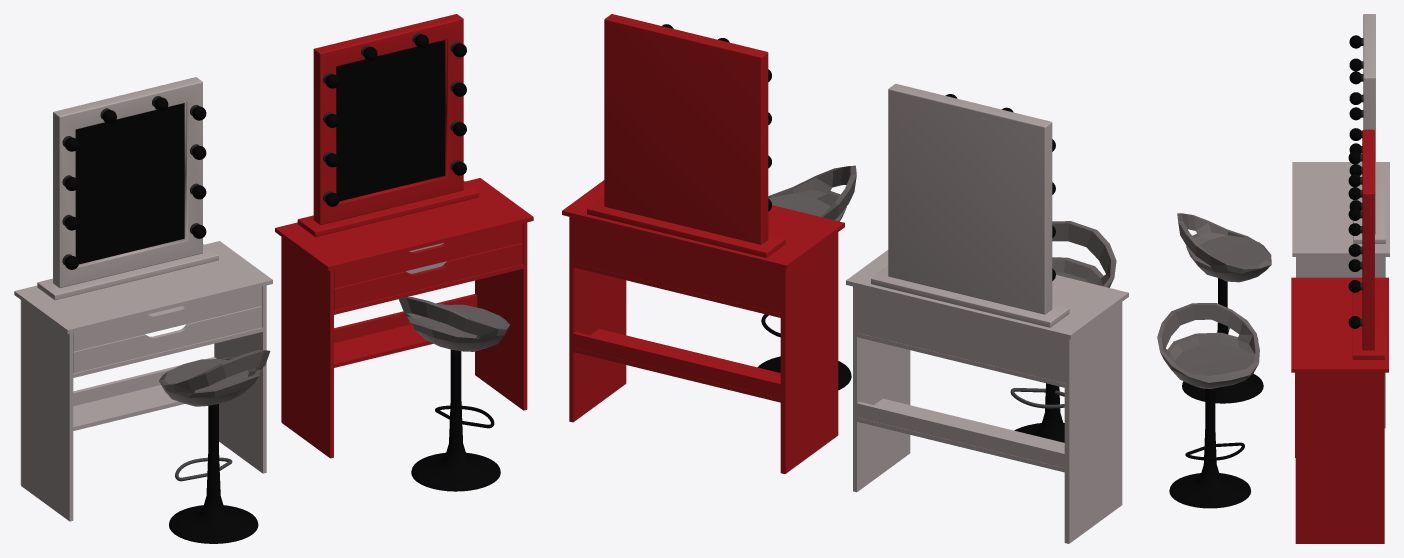
The model's file is uploads_files_3370593_111.FBX.
3 views of the same model, side by side, from view 1: azimuth 30°, elevation 25°; view 2: azimuth 150°, elevation 25°; view 3: azimuth 270°, elevation 25° (orthographic). The views are drawn at different scales.
Visible parts, largest first — view 1: Layer:KM_WORK, Layer:KM_WORK001, Mirror Pink, Mirror Pink001, Box002, Box004, Cylinder004, Cylinder005, seat001, seat, Box001, Box003; view 2: Layer:KM_WORK, Layer:KM_WORK001, Box002, Box004, seat, seat001, Box003, Box001, Cylinder005; view 3: Layer:KM_WORK, Layer:KM_WORK001, seat, seat001, Cylinder004, Box002, Cylinder005, Box004, Box001, Box003, Line001.
Boxes of the visible parts, bbox=[...] form: Layer:KM_WORK: bbox=[275, 178, 533, 458]; Layer:KM_WORK001: bbox=[14, 241, 272, 521]; Mirror Pink: bbox=[336, 40, 445, 201]; Mirror Pink001: bbox=[75, 103, 184, 264]; Box002: bbox=[313, 14, 463, 224]; Box004: bbox=[53, 77, 202, 287]; Cylinder004: bbox=[411, 349, 500, 491]; Cylinder005: bbox=[169, 404, 258, 543]; seat001: bbox=[159, 350, 270, 406]; seat: bbox=[398, 296, 509, 351]; Box001: bbox=[297, 181, 479, 237]; Box003: bbox=[37, 244, 218, 300]; Layer:KM_WORK: bbox=[562, 180, 844, 473]; Layer:KM_WORK001: bbox=[846, 250, 1128, 543]; Box002: bbox=[604, 14, 768, 244]; Box004: bbox=[888, 84, 1052, 314]; seat: bbox=[768, 165, 856, 221]; seat001: bbox=[1052, 221, 1116, 287]; Box003: bbox=[871, 266, 1069, 327]; Box001: bbox=[587, 196, 785, 257]; Cylinder005: bbox=[1014, 383, 1064, 442]; Layer:KM_WORK: bbox=[1291, 277, 1388, 543]; Layer:KM_WORK001: bbox=[1292, 162, 1389, 428]; seat: bbox=[1157, 303, 1259, 388]; seat001: bbox=[1177, 213, 1271, 282]; Cylinder004: bbox=[1169, 388, 1250, 508]; Box002: bbox=[1362, 129, 1374, 350]; Cylinder005: bbox=[1182, 278, 1263, 403]; Box004: bbox=[1363, 14, 1375, 234]; Box001: bbox=[1352, 282, 1384, 359]; Box003: bbox=[1353, 166, 1385, 243]; Line001: bbox=[1185, 442, 1244, 460].
Size of the model in its own units: 2266 by 1727 by 1075.
